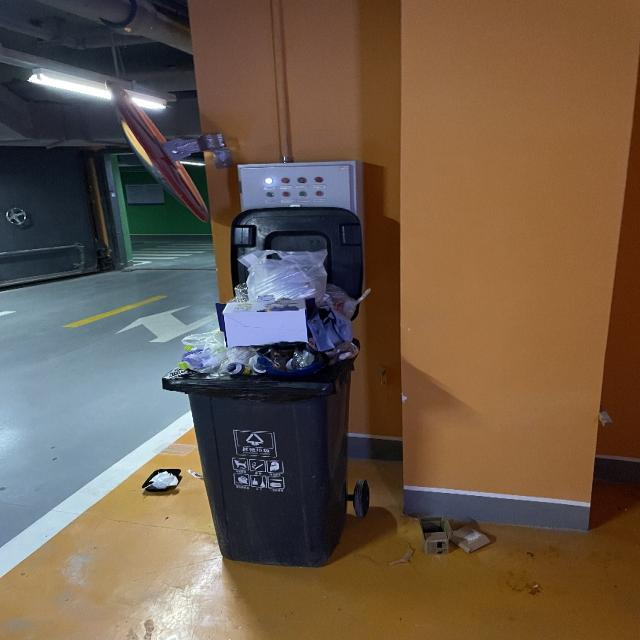garbage: (418, 516, 491, 553), (141, 468, 183, 492)
overflow: (161, 248, 361, 568)
